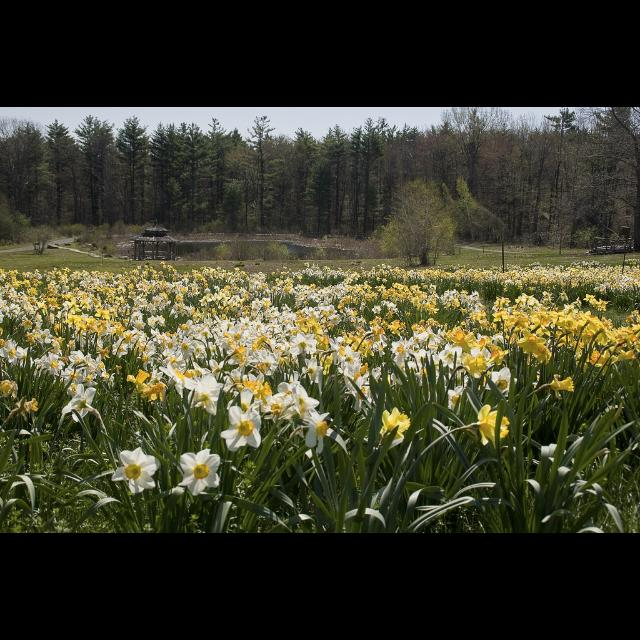Flower: (2, 259, 640, 445), (108, 451, 158, 499), (178, 450, 222, 494)
